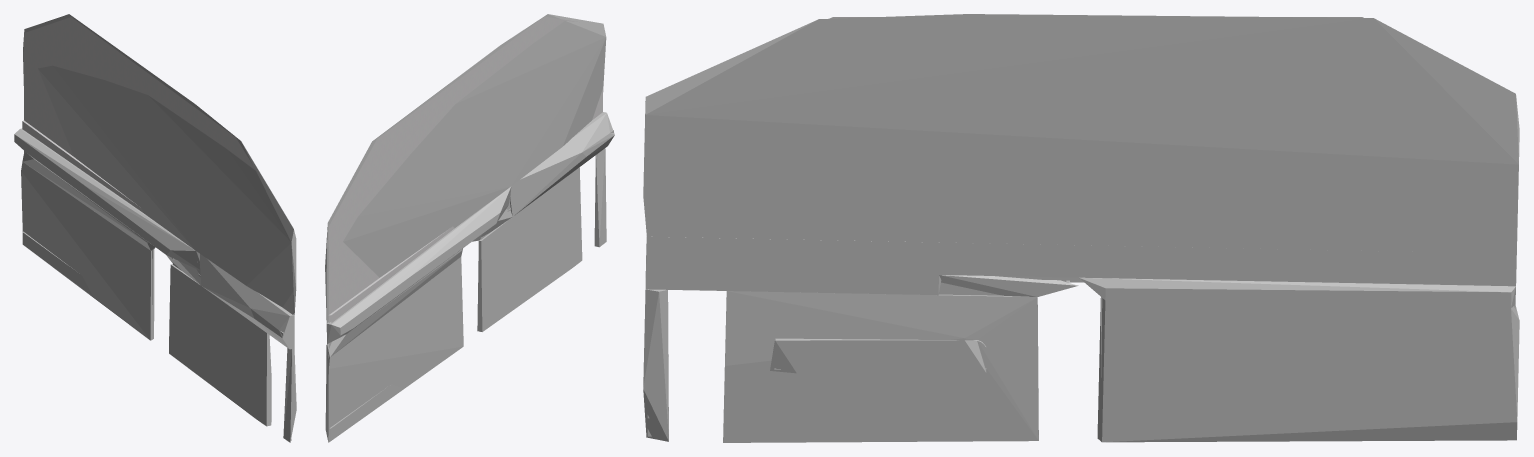
Rendered from SM_Wall_Grill_3.fbx.
3 renders of one model, left to right at view 1: azimuth 30°, elevation 25°; view 2: azimuth 150°, elevation 25°; view 3: azimuth 270°, elevation 25°, orthographic. The views are drawn at different scales.
Parts seen in each view (by area): view 1: SM_Wall_Grill_3_ConvexHulls, SM_Wall_Grill_3; view 2: SM_Wall_Grill_3_ConvexHulls, SM_Wall_Grill_3; view 3: SM_Wall_Grill_3_ConvexHulls, SM_Wall_Grill_3.
Part boxes in pixels (<box>): SM_Wall_Grill_3_ConvexHulls: <box>14,14,296,442</box>; SM_Wall_Grill_3: <box>22,17,293,440</box>; SM_Wall_Grill_3_ConvexHulls: <box>325,14,614,442</box>; SM_Wall_Grill_3: <box>328,16,613,440</box>; SM_Wall_Grill_3_ConvexHulls: <box>643,14,1519,442</box>; SM_Wall_Grill_3: <box>647,17,1515,436</box>.
Bounding box in the file's own units: 42.1 × 1203 × 650.
